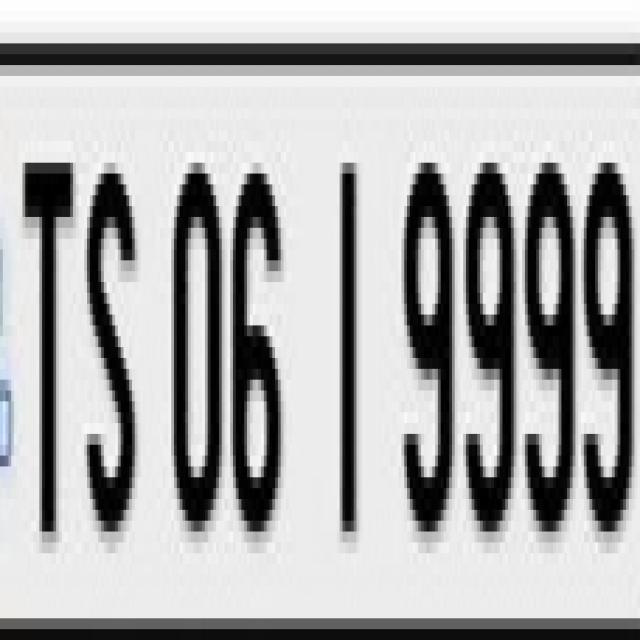0: (169, 131, 225, 544)
6: (225, 124, 287, 557)
9: (518, 129, 579, 567), (459, 124, 519, 563), (401, 122, 458, 558), (580, 131, 635, 562)
I: (332, 112, 372, 589)
S: (80, 124, 140, 567)
T: (18, 121, 78, 562)
